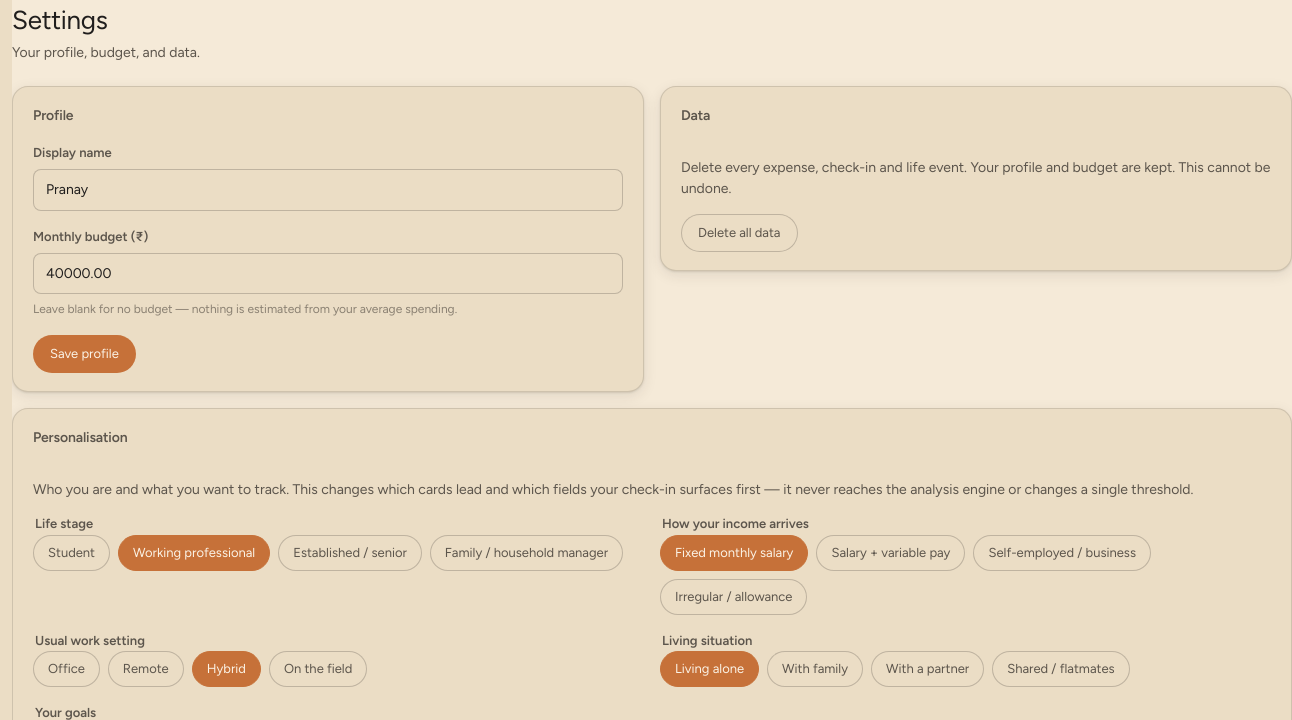
Test case: deleting all data requires explicit confirmation › does not delete on the first click — it asks first
Click the button "Delete all data" at {"x": 739, "y": 233}, box [681, 214, 798, 252]
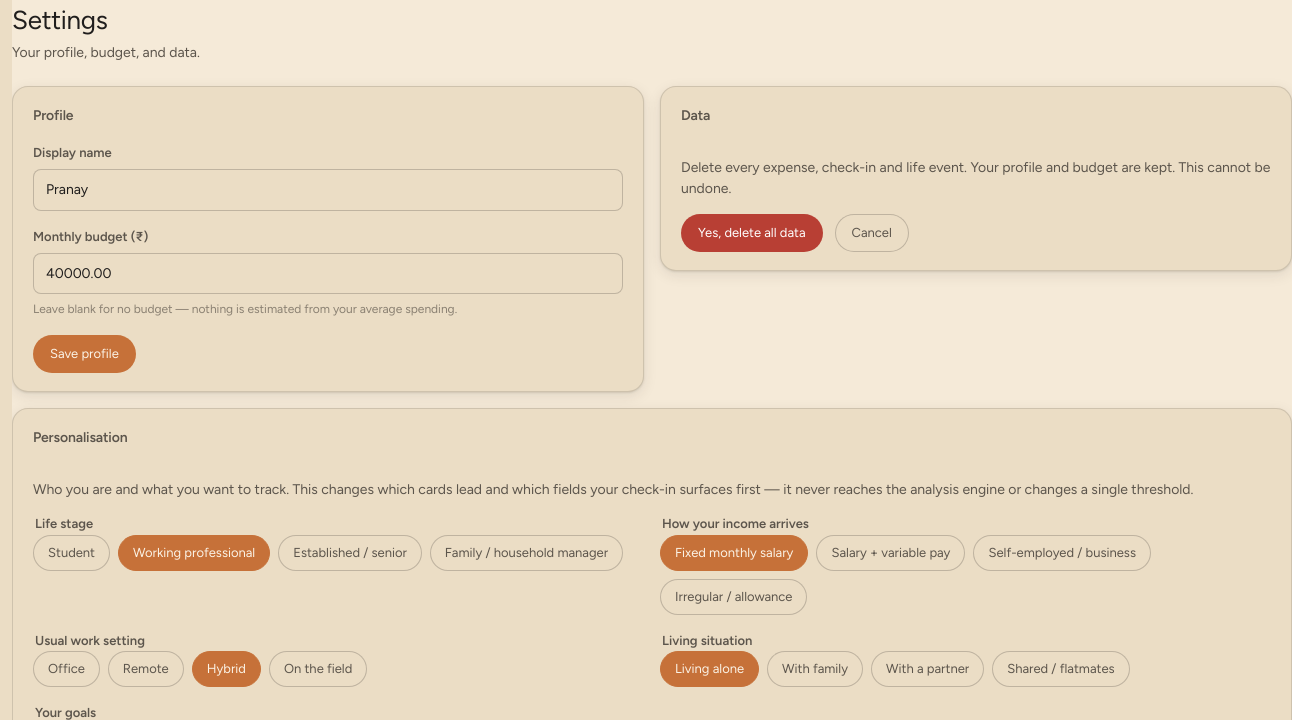
Result: the button "Yes, delete all data" is shown at [681, 214, 823, 252]
Result: the button "Cancel" is shown at [835, 214, 909, 252]
